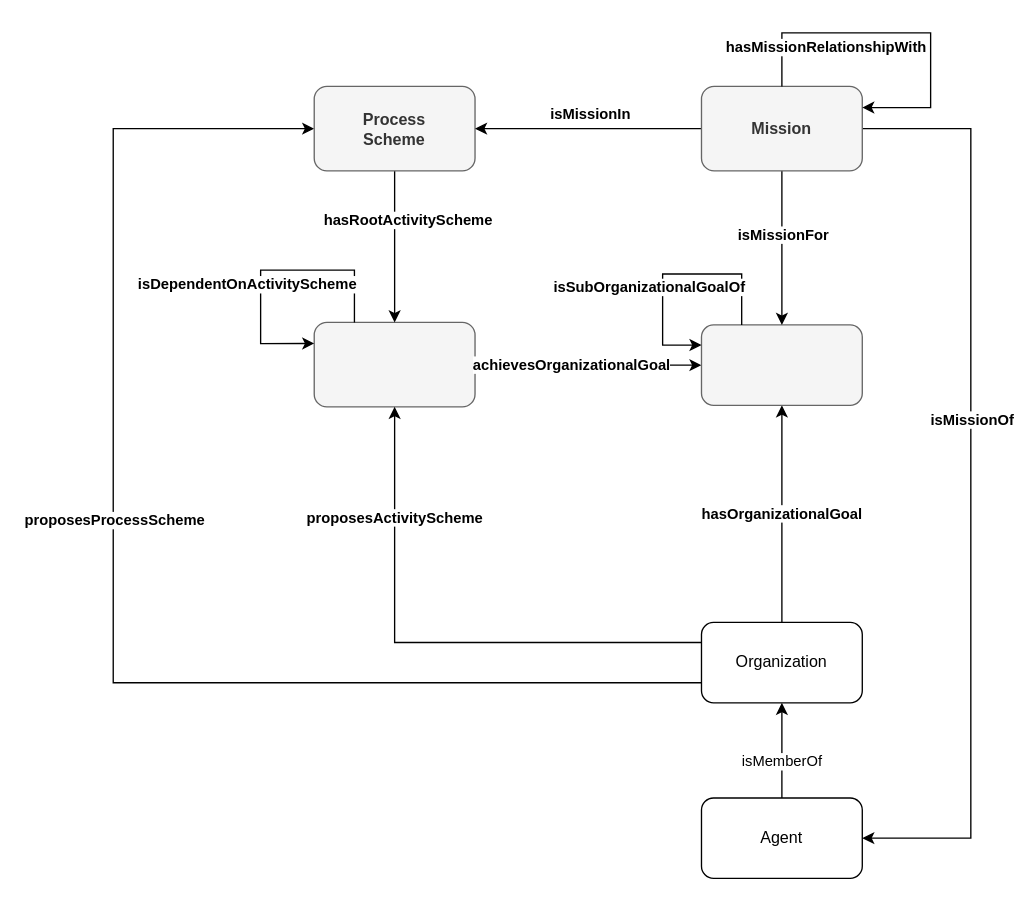
Image size: 1036x902. Some labels were removed from this diagram. The shapes that lost their labels are listed below. From the top down, each one's centre as x and y in pixels, then its label:
(394,364): Activity Scheme
(781,364): Organizational Goal
